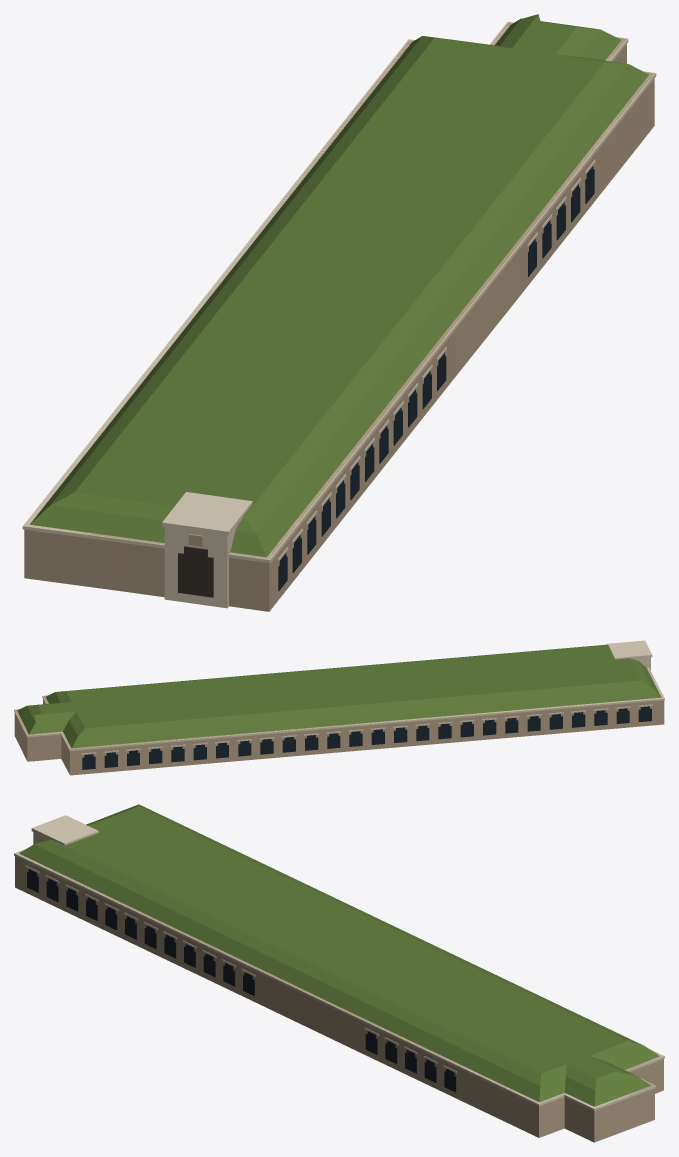
Rendered from kasematten-sw.glb.
The picture shows the model from 3 angles, top to bottom: view 1: azimuth 30°, elevation 25°; view 2: azimuth 150°, elevation 25°; view 3: azimuth 270°, elevation 25°; orthographic projection. The views are drawn at different scales.
Parts seen in each view (by area): view 1: kasematten-sw_lod0; view 2: kasematten-sw_lod0; view 3: kasematten-sw_lod0.
Boxes of the visible parts, box(x1,y1,x2,y2) form: kasematten-sw_lod0: box(22, 14, 656, 611); kasematten-sw_lod0: box(14, 640, 664, 775); kasematten-sw_lod0: box(14, 804, 664, 1142).
Size of what is drawn, in the model's own units: 107 by 8.3 by 96.7.
